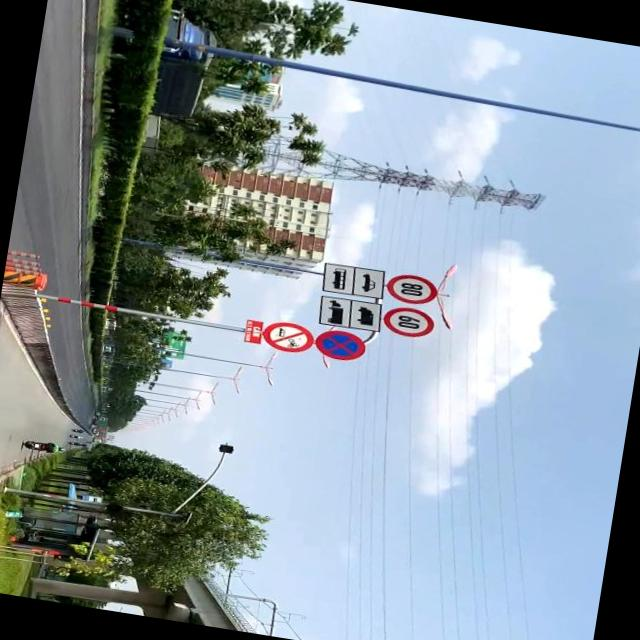P-104: (260, 318, 316, 356)
P-127: (381, 268, 443, 308), (383, 304, 439, 341)
P-130: (312, 326, 369, 364)
